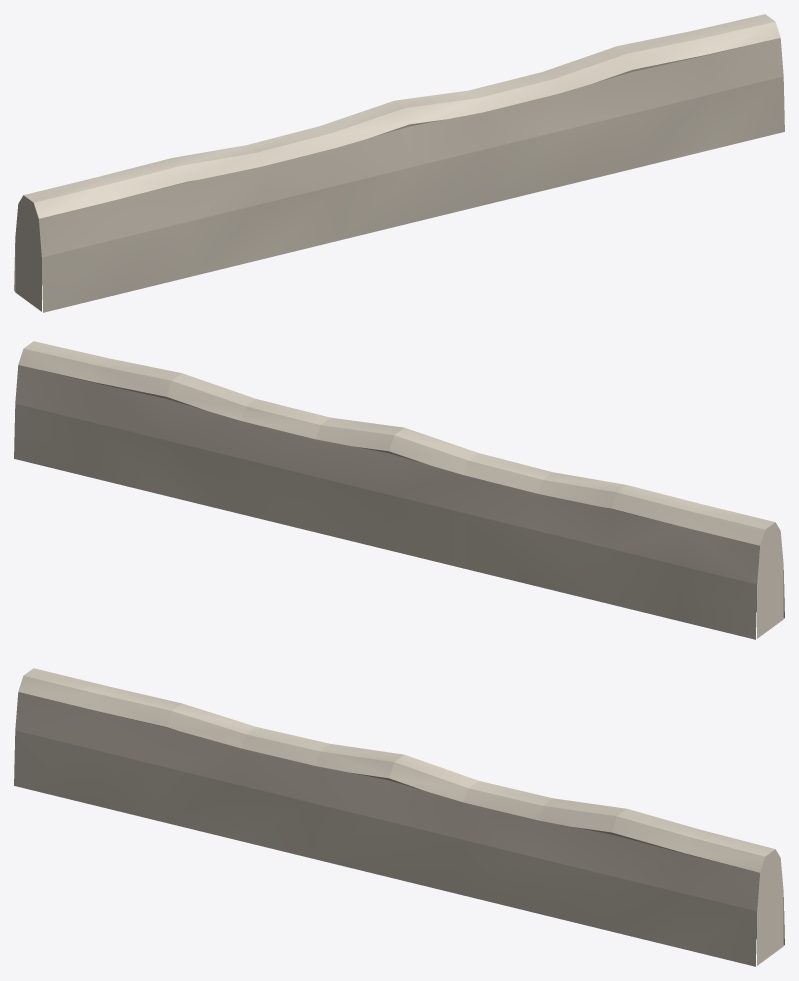
File: SM_BM_BVV_StoneWall.glb
3 views of the same model, one above another, from view 1: azimuth 30°, elevation 25°; view 2: azimuth 150°, elevation 25°; view 3: azimuth 330°, elevation 25° (orthographic).
Visible parts, largest first — view 1: SM_BM_BVV_StoneWall; view 2: SM_BM_BVV_StoneWall; view 3: SM_BM_BVV_StoneWall.
Part boxes in pixels (x1=…): SM_BM_BVV_StoneWall: x1=14, y1=14, x2=784, y2=312; SM_BM_BVV_StoneWall: x1=14, y1=341, x2=784, y2=639; SM_BM_BVV_StoneWall: x1=14, y1=668, x2=784, y2=966.
Size of the model in its own units: 10 by 1.38 by 0.68.
